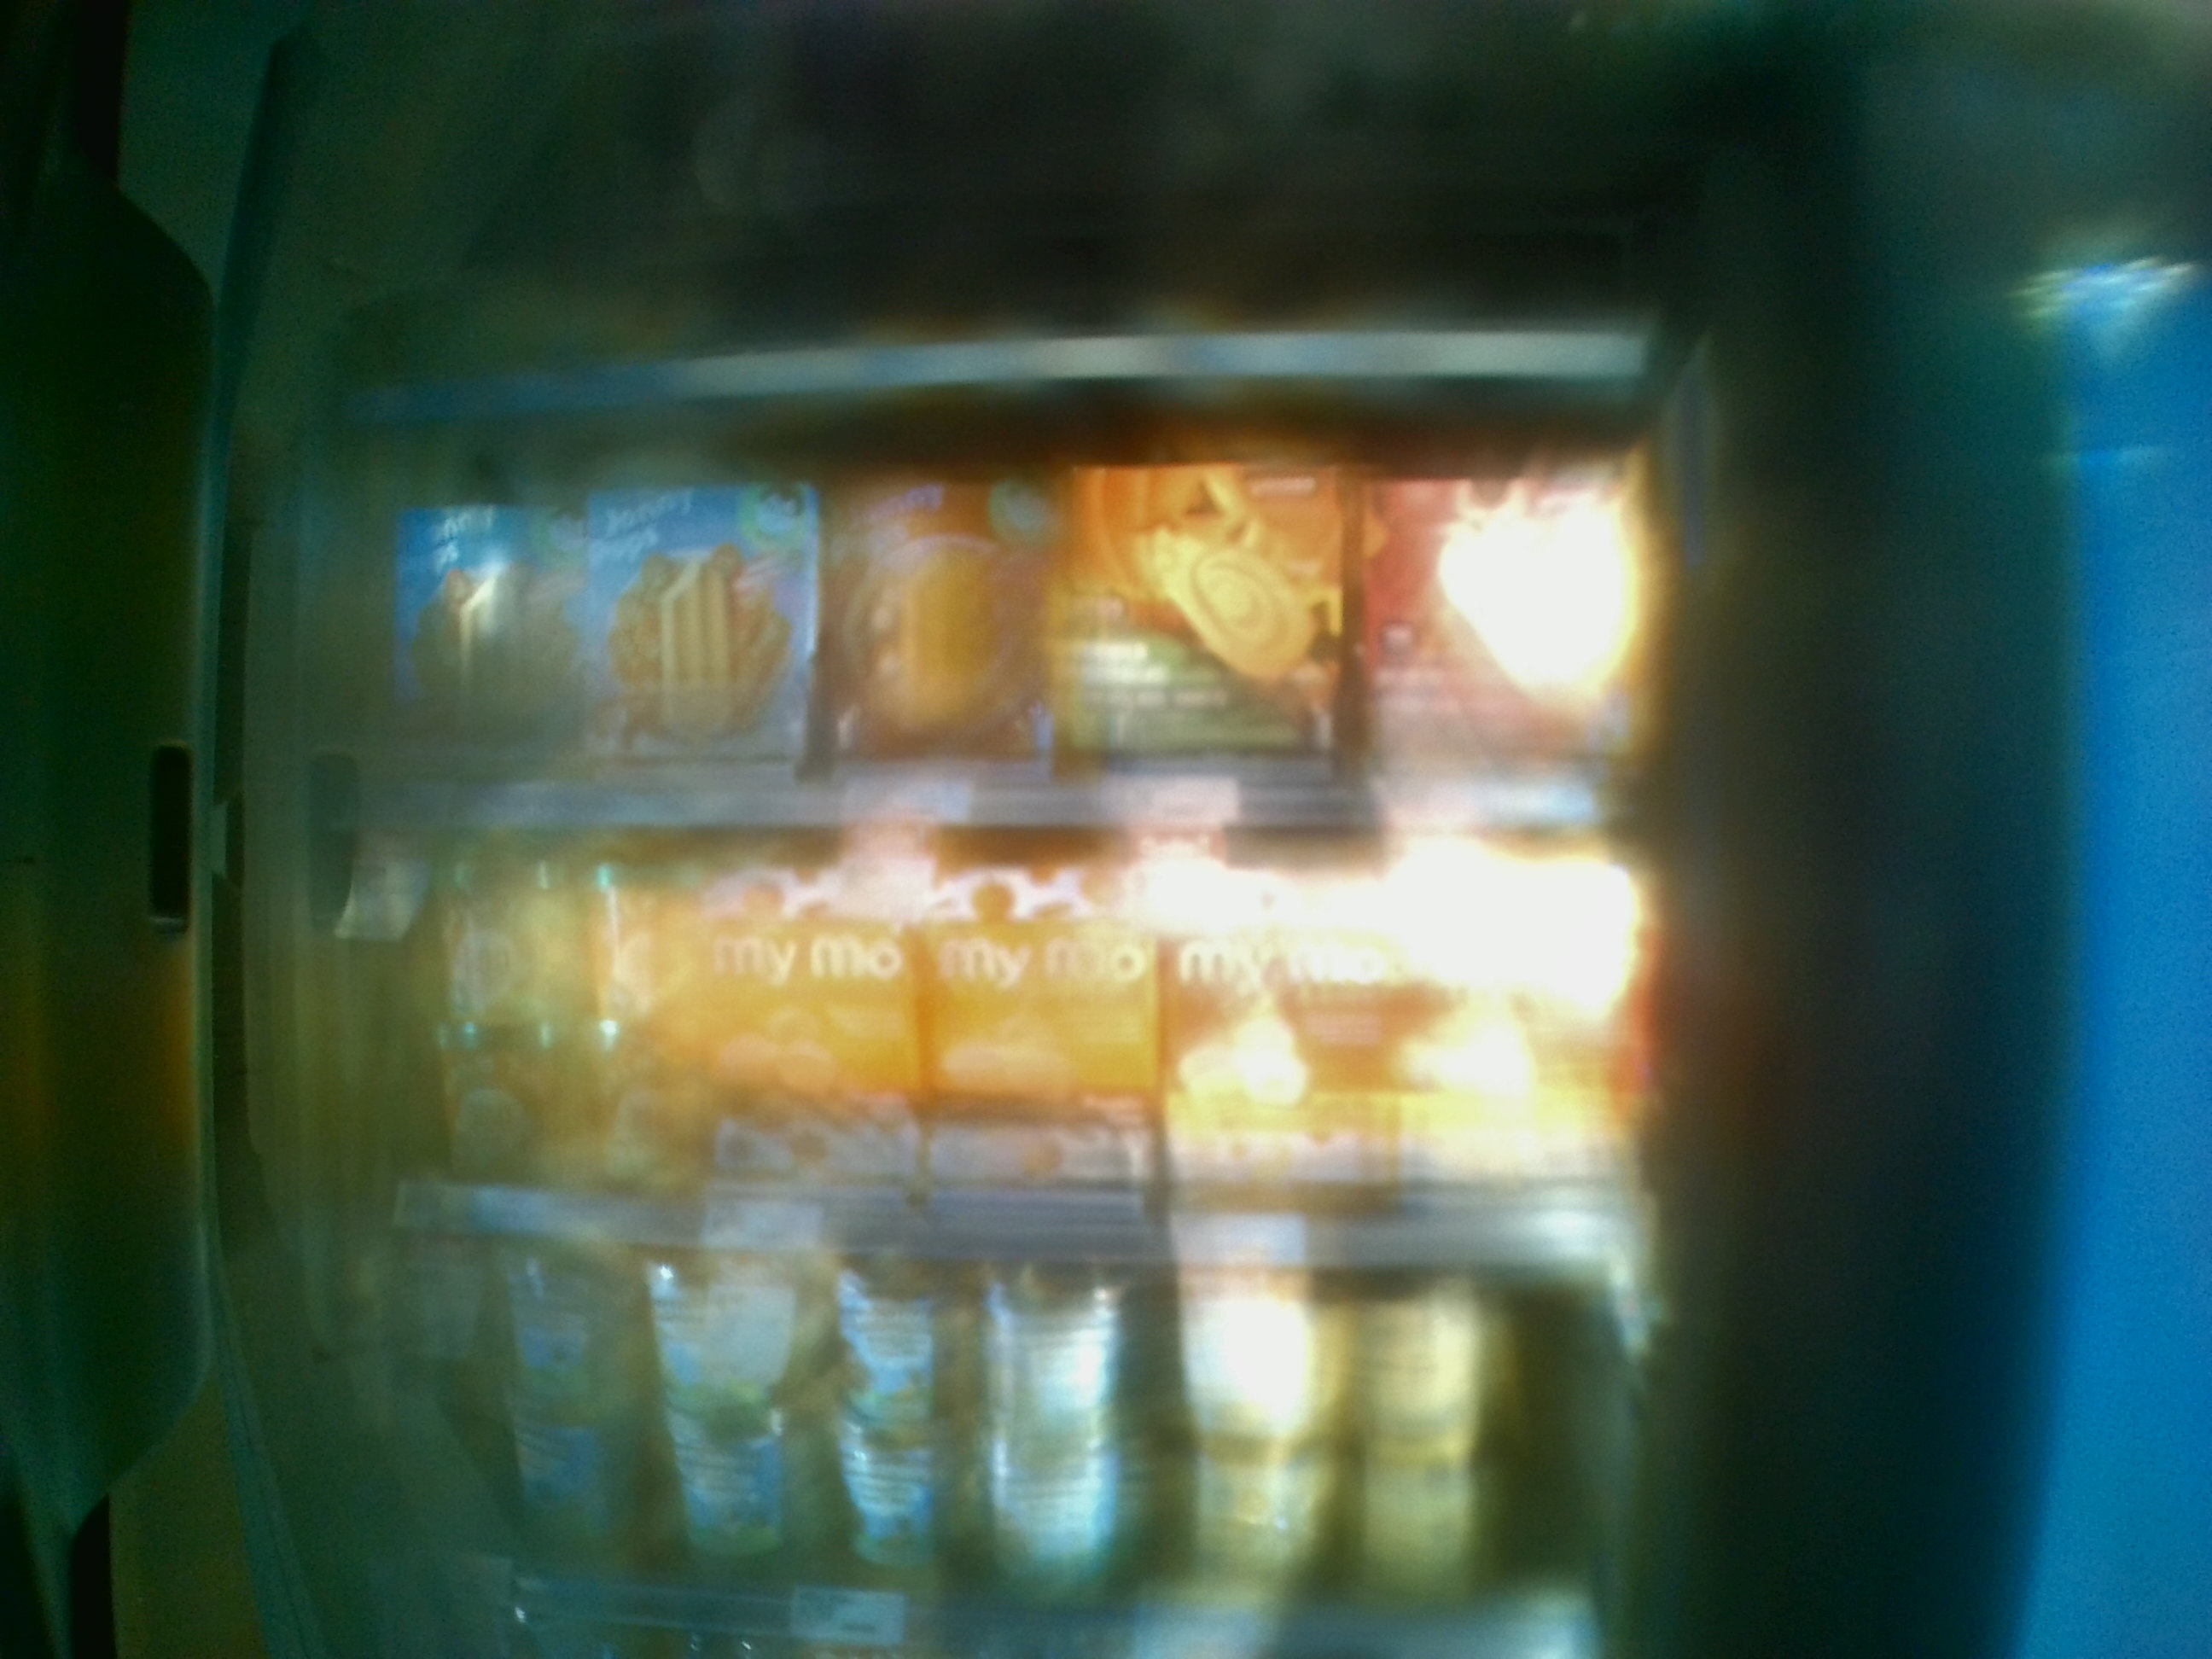shelf: (324, 809, 1656, 1265), (345, 422, 1674, 823)
